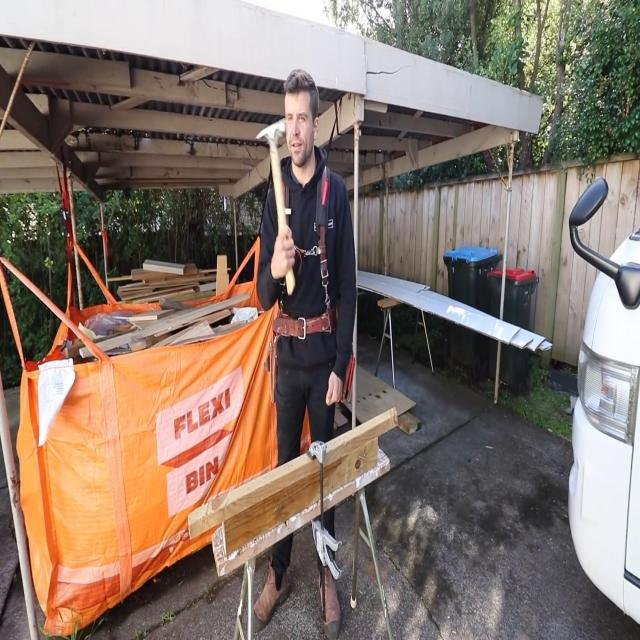hammer: (254, 115, 297, 300)
